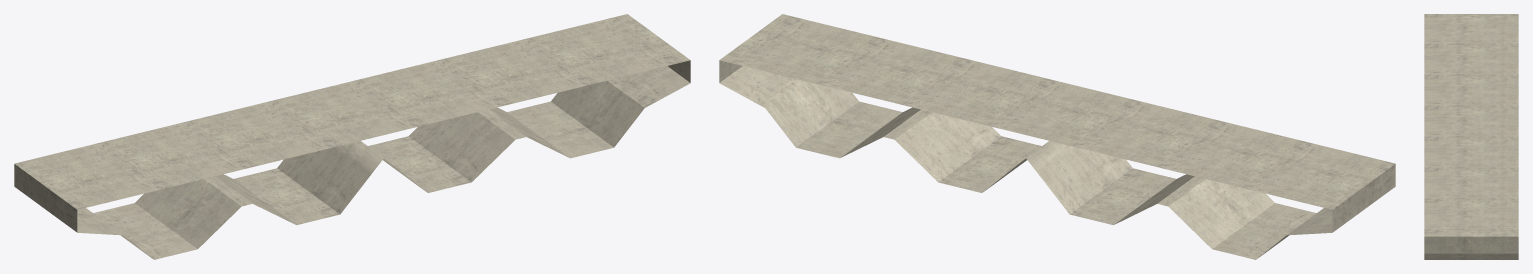
The model's file is BridgeBase2-28w-5l-3d.FBX.
3 renders of one model, left to right at view 1: azimuth 30°, elevation 25°; view 2: azimuth 150°, elevation 25°; view 3: azimuth 270°, elevation 25°, orthographic. The views are drawn at different scales.
Parts seen in each view (by area): view 1: BridgeBase2-28w-5l-3d; view 2: BridgeBase2-28w-5l-3d; view 3: BridgeBase2-28w-5l-3d.
Boxes of the visible parts, x1,y1,x2,y2 form: BridgeBase2-28w-5l-3d: [14, 14, 690, 259]; BridgeBase2-28w-5l-3d: [719, 14, 1395, 259]; BridgeBase2-28w-5l-3d: [1424, 14, 1518, 259].
Size of the model in its own units: 28 by 3 by 5.
